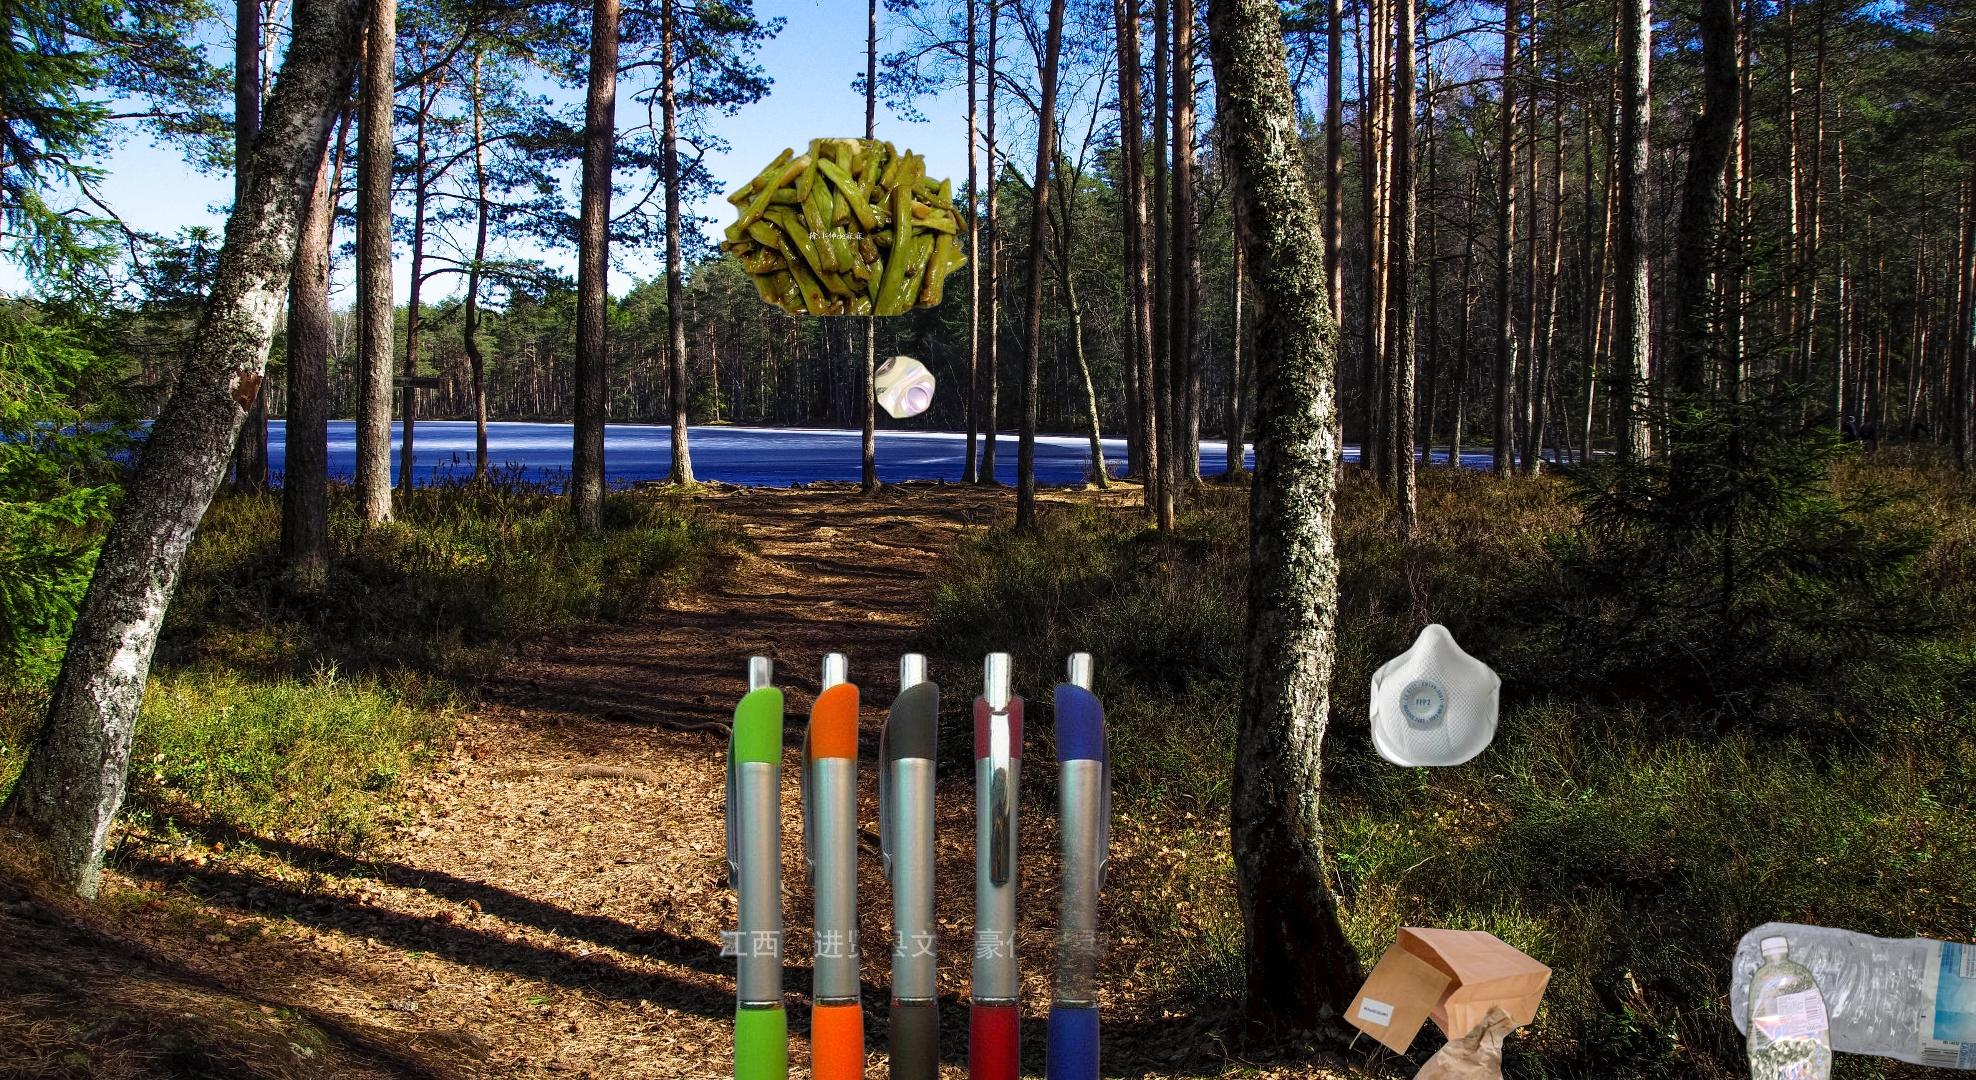biological: (717, 136, 971, 319)
metal-cans: (870, 348, 940, 426)
paper-bag: (1315, 923, 1554, 1080)
penholder: (714, 646, 1153, 1080)
plastic-bottles: (1726, 918, 1976, 1080), (1741, 928, 1836, 1080)
trash: (1366, 596, 1523, 802)
